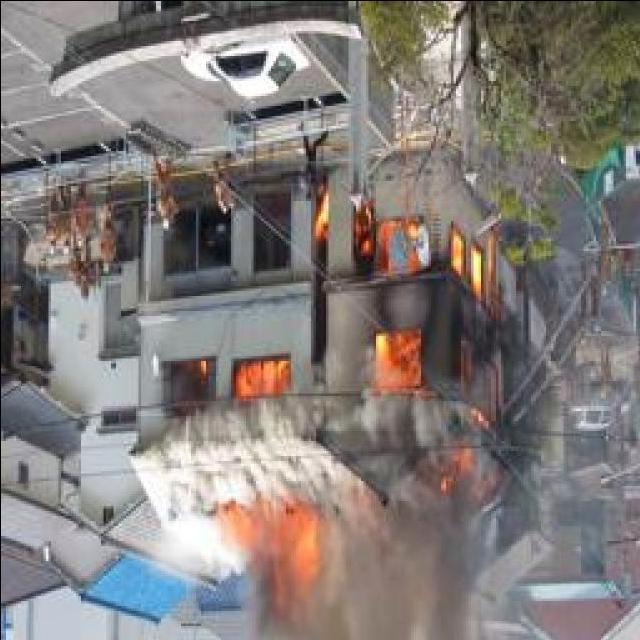Fire: (304, 174, 524, 464), (210, 493, 329, 603), (195, 354, 283, 398)
